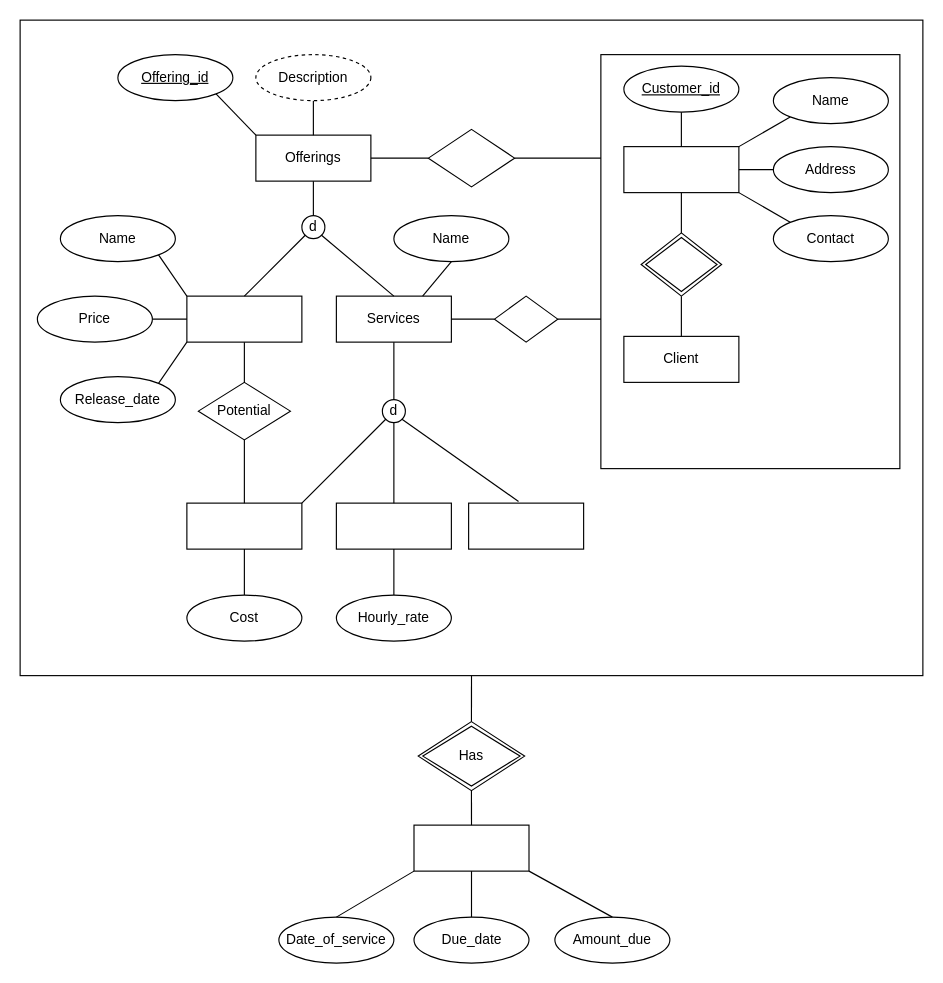
Image size: 943x983. Some labels were removed from this diagram. Each missing label, with the centre of its shape:
Billed: [525,318]
Company: [471,847]
Customer: [681,169]
Maintainance: [393,525]
Other_services: [525,525]
Products: [244,318]
Purchase: [471,157]
Repair: [244,525]
requests: [681,264]
